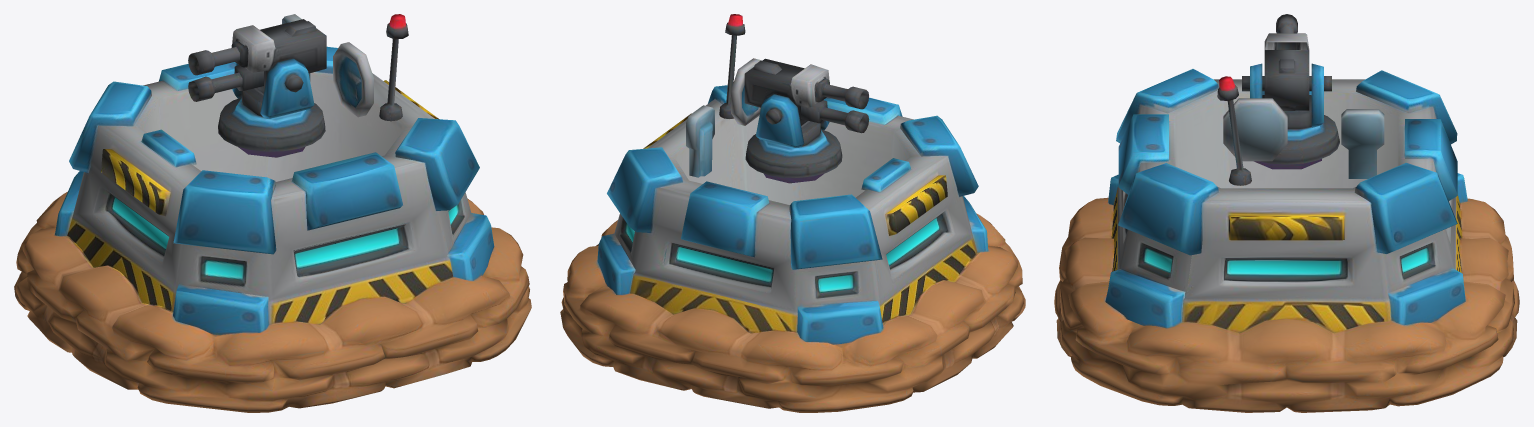
The model's file is bunker_2.glb.
3 renders of one model, left to right at view 1: azimuth 30°, elevation 25°; view 2: azimuth 150°, elevation 25°; view 3: azimuth 270°, elevation 25°, orthographic. The views are drawn at different scales.
Visible parts, largest first — view 1: tripo_node_c7f43a16-2e75-4e55-8d2a-b97272373e03; view 2: tripo_node_c7f43a16-2e75-4e55-8d2a-b97272373e03; view 3: tripo_node_c7f43a16-2e75-4e55-8d2a-b97272373e03.
Part boxes in pixels (bbox=[...]): tripo_node_c7f43a16-2e75-4e55-8d2a-b97272373e03: bbox=[14, 14, 531, 412]; tripo_node_c7f43a16-2e75-4e55-8d2a-b97272373e03: bbox=[560, 14, 1025, 412]; tripo_node_c7f43a16-2e75-4e55-8d2a-b97272373e03: bbox=[1054, 14, 1519, 412].
Bounding box in the file's own units: 3.3 × 2.2 × 3.29.
Materials: 1 (1 with a texture image).
